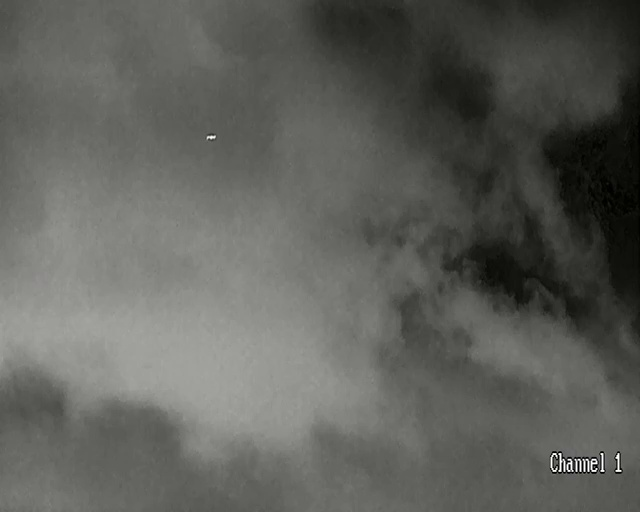uav: (206, 132, 216, 140)
